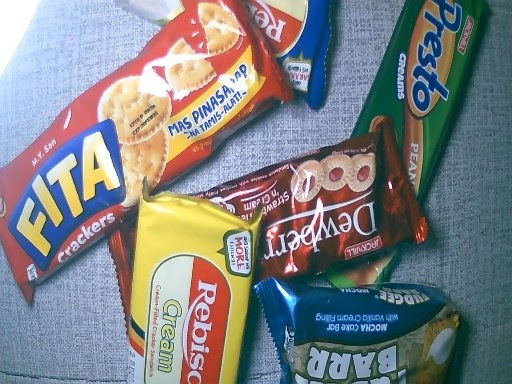plastic: (3, 1, 279, 297), (112, 123, 436, 332), (317, 1, 493, 298), (255, 271, 490, 384), (133, 178, 247, 384), (120, 1, 332, 106)
